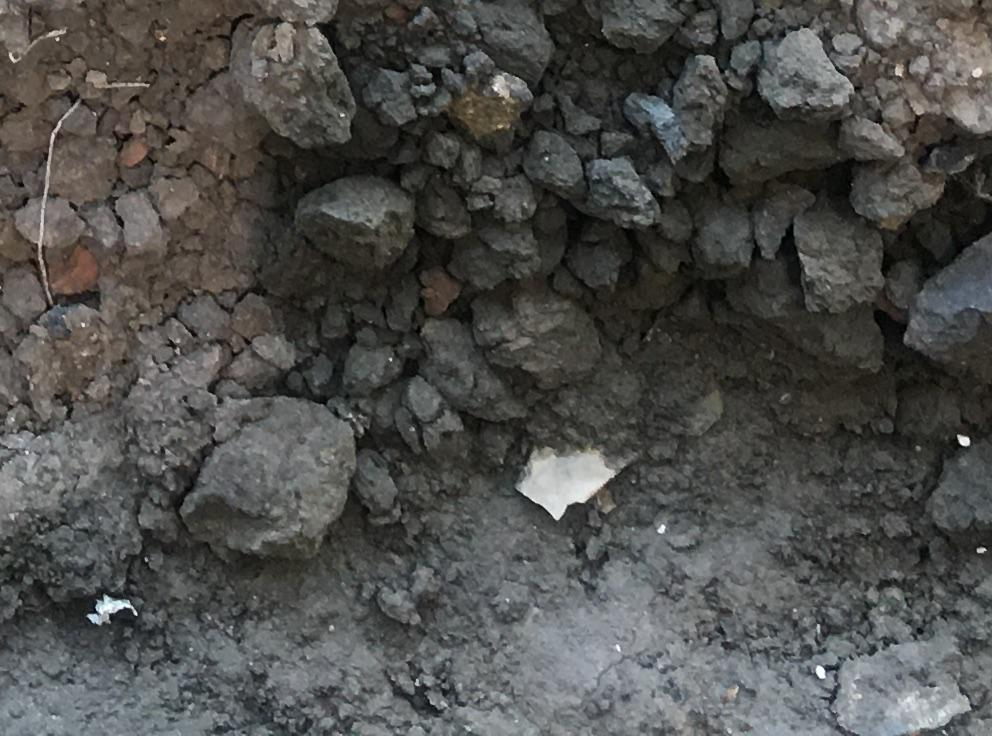block: (187, 390, 354, 563), (232, 22, 352, 143), (467, 276, 601, 382), (833, 638, 969, 735), (787, 202, 890, 312), (292, 173, 412, 264), (761, 29, 850, 123)
